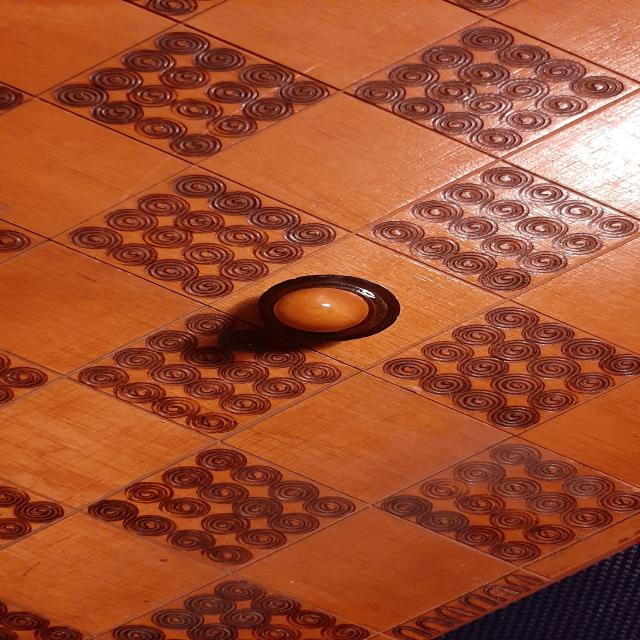black-bishop: (254, 272, 402, 344)
